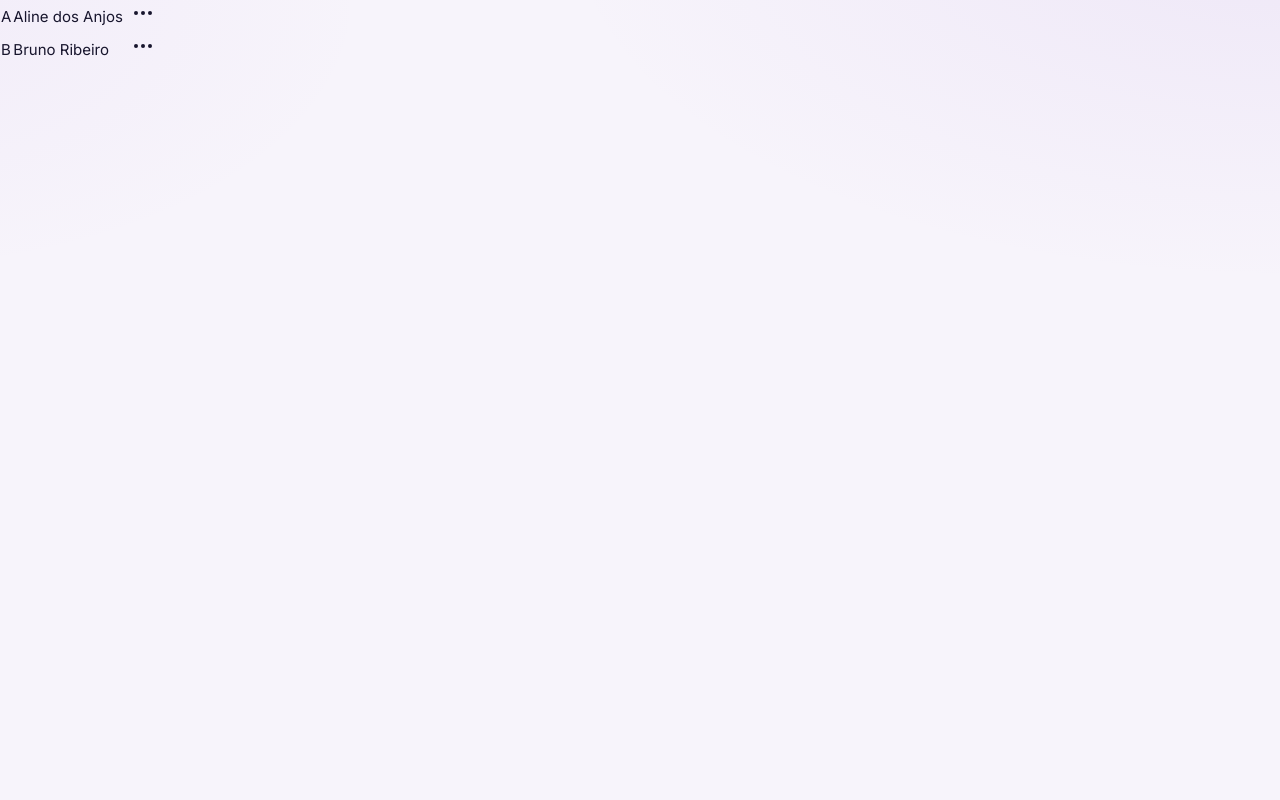
Test: Clique na linha do paciente abre o Sheet › Esc fecha o Sheet
Click the text with test id "name-p1".
click(68, 16)  # box [13, 4, 123, 28]
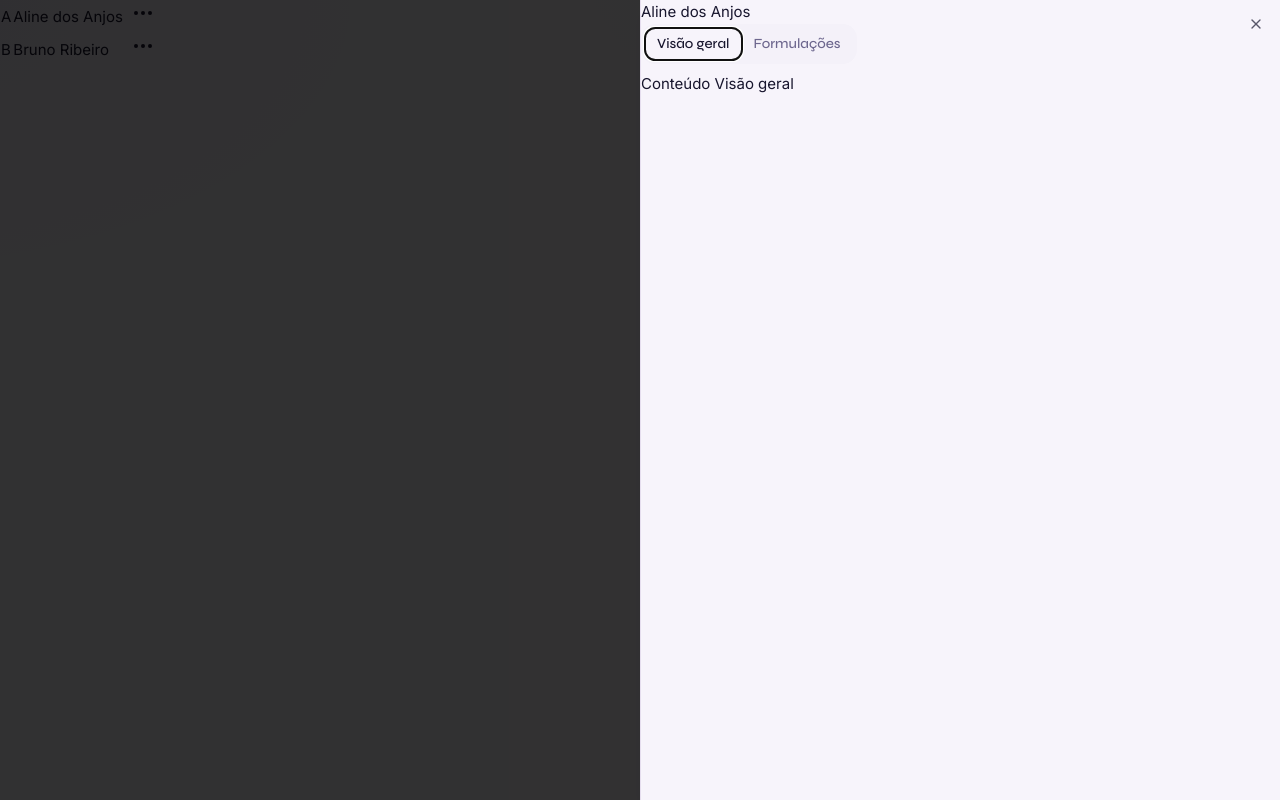
Expected: the text "Aline dos Anjos" is shown, [641, 2, 750, 21]
Press Escape
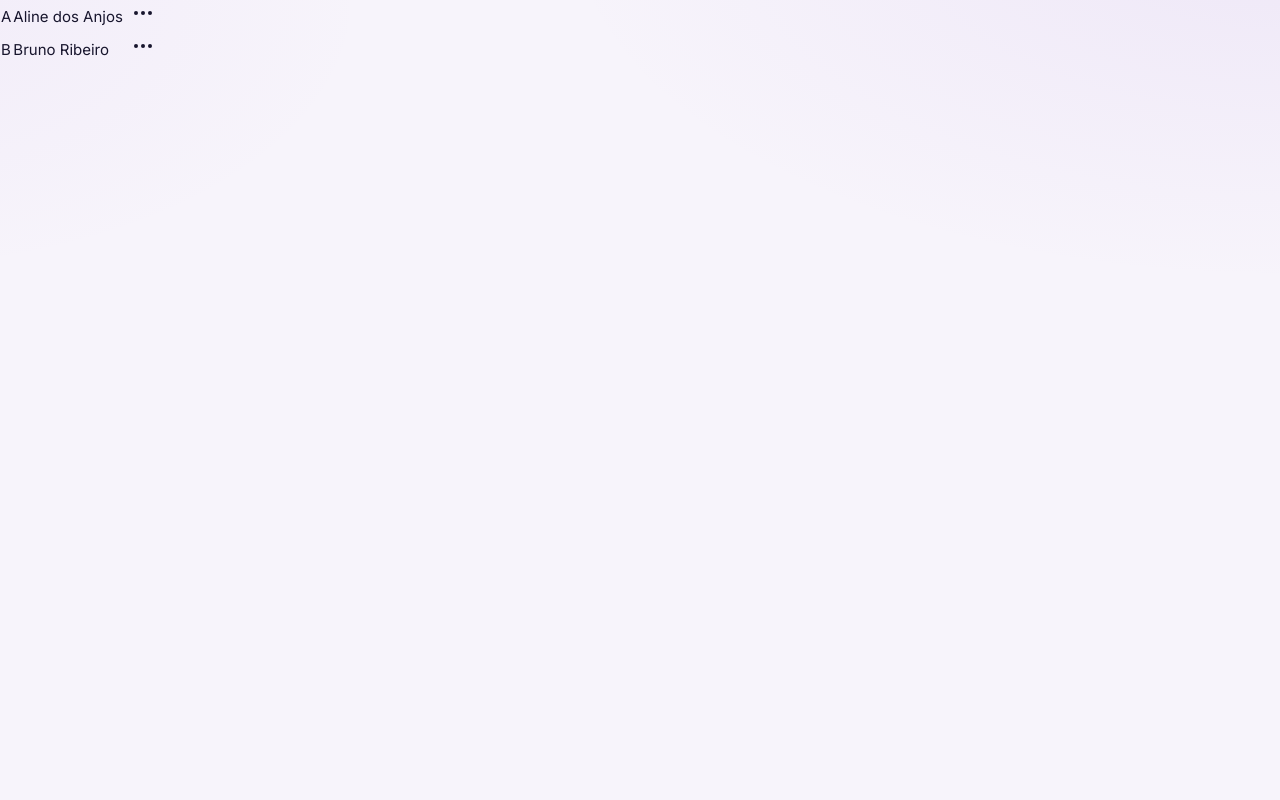
Expected: the text with test id "sheet-name" is gone
